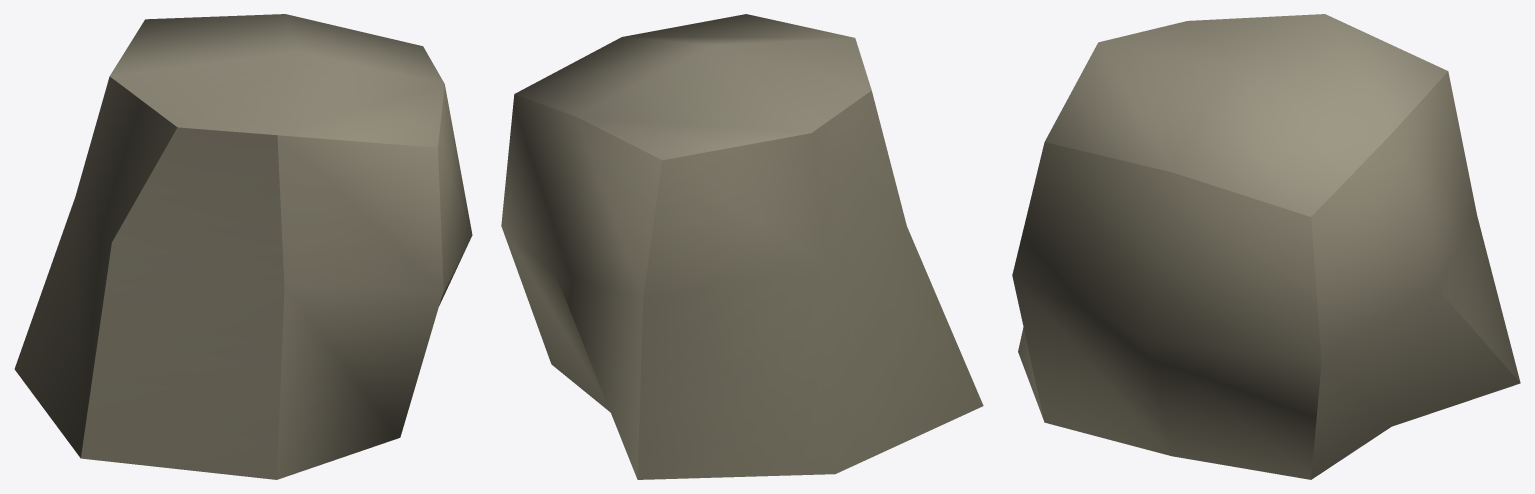
Rendered from orc_mine_stone_05.fbx.
3 renders of one model, left to right at view 1: azimuth 30°, elevation 25°; view 2: azimuth 150°, elevation 25°; view 3: azimuth 270°, elevation 25°, orthographic. The views are drawn at different scales.
Visible parts, largest first — view 1: orc_mine_stone_05; view 2: orc_mine_stone_05; view 3: orc_mine_stone_05.
Part boxes in pixels (x1,y1,x2,y2): orc_mine_stone_05: [14, 14, 472, 479]; orc_mine_stone_05: [501, 14, 983, 479]; orc_mine_stone_05: [1012, 14, 1520, 479].
Size of the model in its own units: 226 by 169 by 224.
